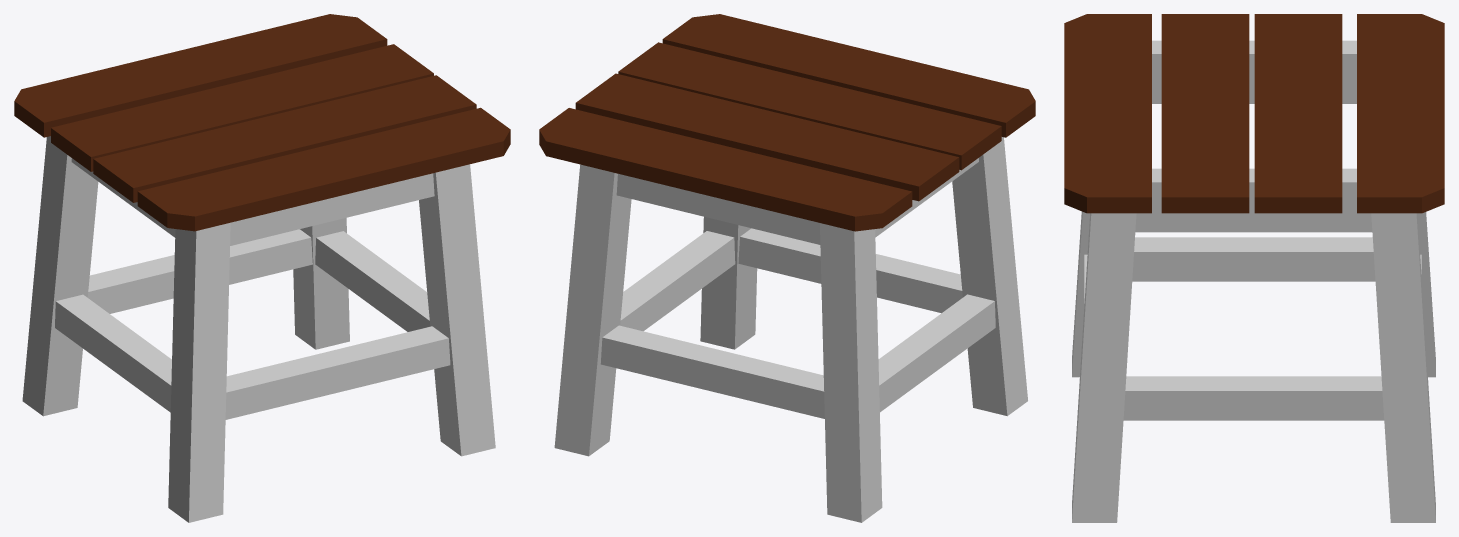
The model's file is TabouretKokoa.fbx.
The picture shows the model from 3 angles, left to right: view 1: azimuth 30°, elevation 25°; view 2: azimuth 150°, elevation 25°; view 3: azimuth 270°, elevation 25°; orthographic projection. The views are drawn at different scales.
Parts seen in each view (by area): view 1: TabouretKokoa; view 2: TabouretKokoa; view 3: TabouretKokoa.
Boxes of the visible parts, left/top/right/bottom form: TabouretKokoa: left=14, top=14, right=510, bottom=522; TabouretKokoa: left=539, top=14, right=1035, bottom=522; TabouretKokoa: left=1064, top=14, right=1444, bottom=522.
Bounding box in the file's own units: 167 × 143 × 146.
